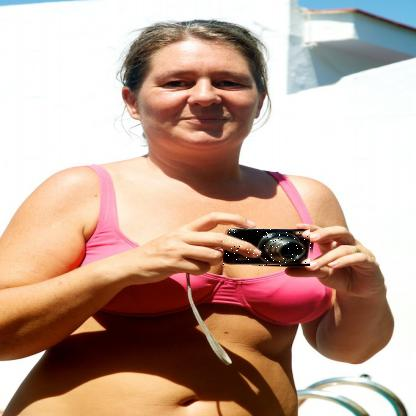Camera: (225, 230, 315, 268)
